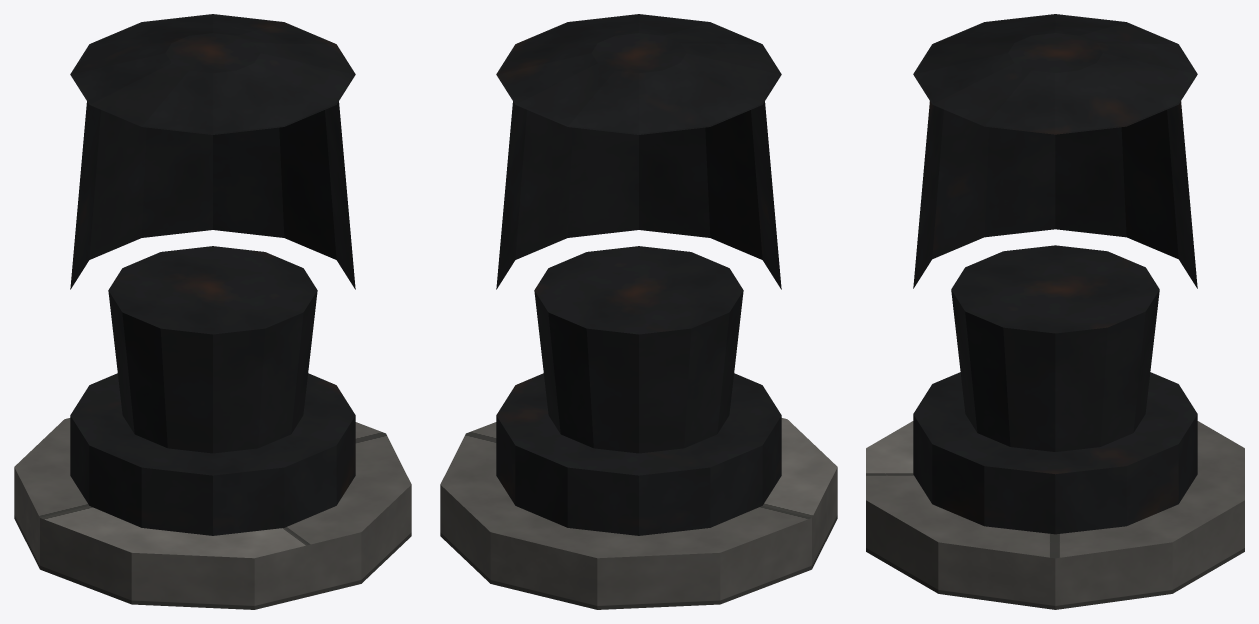
The model's file is A_bollard.glb.
3 views of the same model, side by side, from view 1: azimuth 30°, elevation 25°; view 2: azimuth 150°, elevation 25°; view 3: azimuth 270°, elevation 25° (orthographic).
Visible parts, largest first — view 1: A_bollard; view 2: A_bollard; view 3: A_bollard.
Part boxes in pixels (x1,y1,x2,y2): A_bollard: (14, 14, 411, 609); A_bollard: (440, 14, 837, 609); A_bollard: (866, 14, 1244, 609).
Bounding box in the file's own units: 0.84 × 1.1 × 0.7989.
2 materials, 2 textured.
